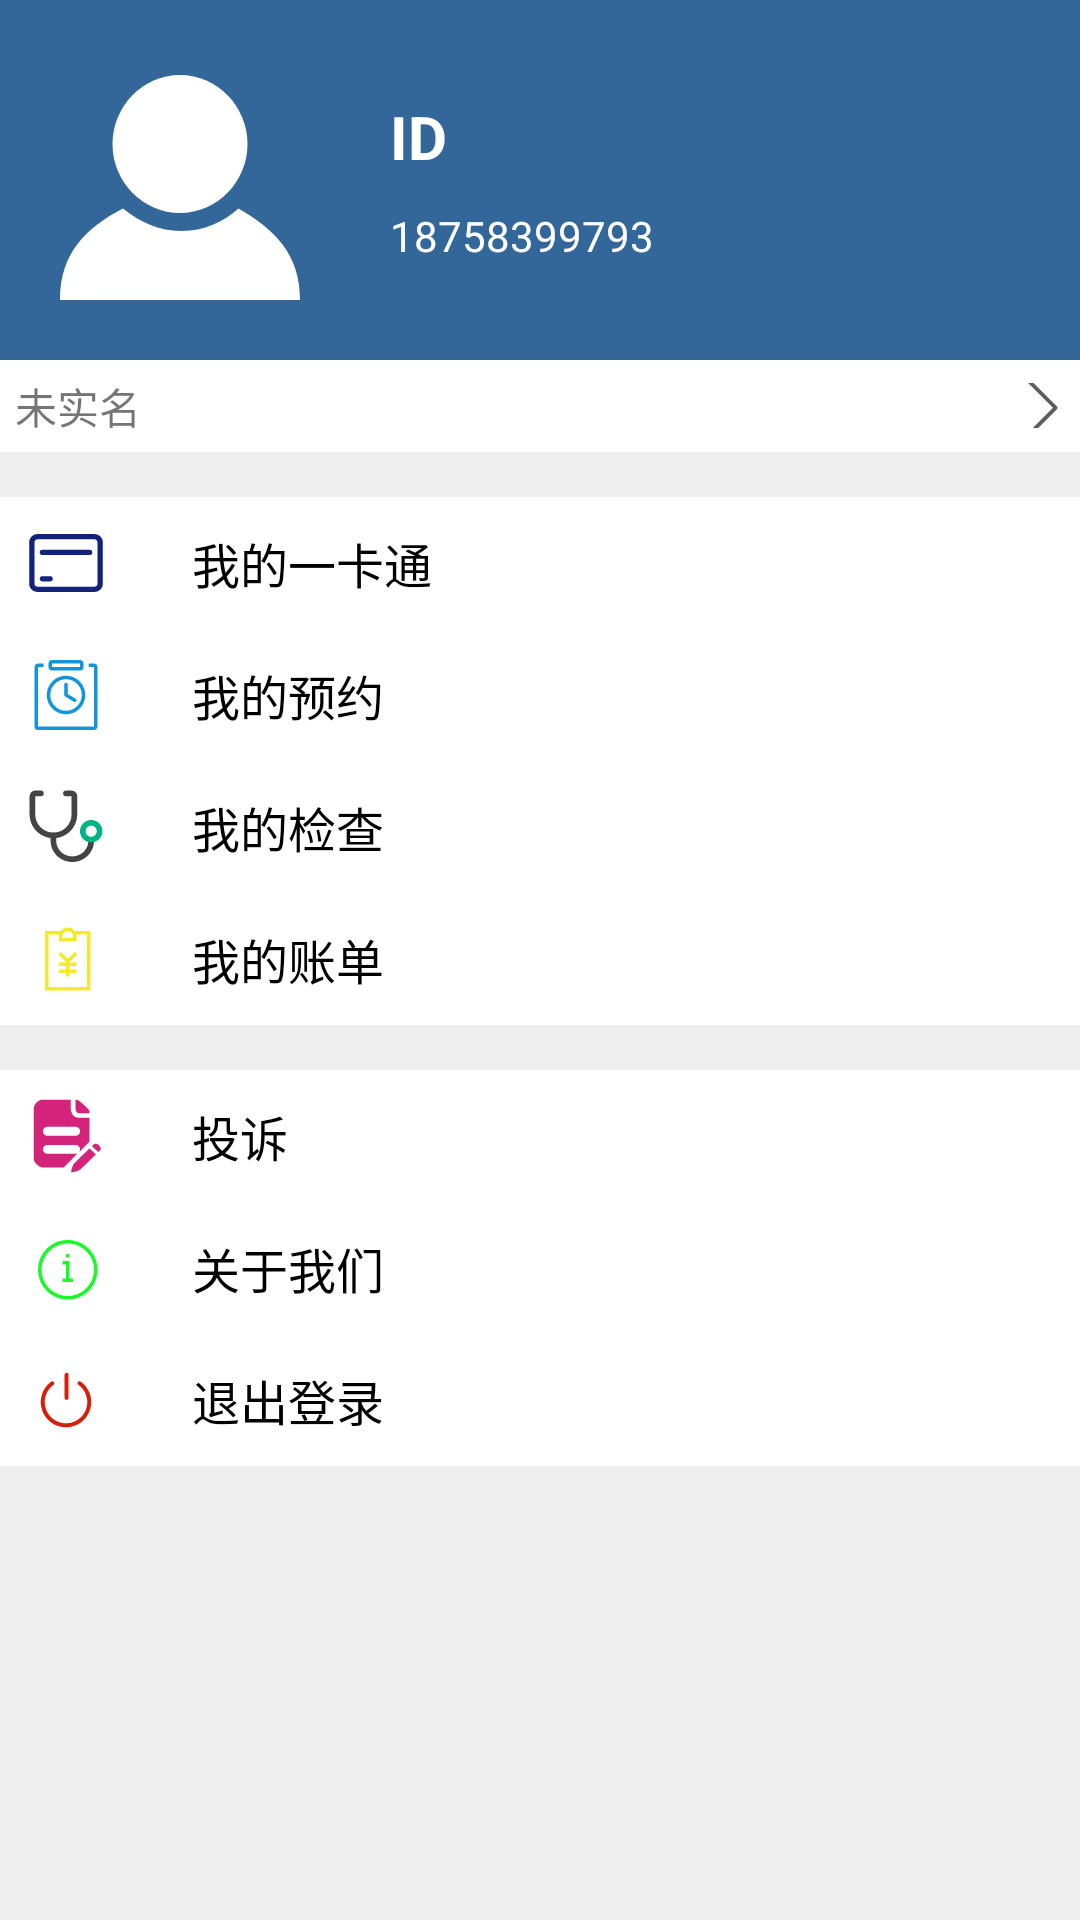

Icon bounding boxes for this 1080px×1920px phone screenshot, format (x1, y1, x2, y2):
about: (38, 1240, 98, 1300)
arrowhead right: (1028, 383, 1058, 428)
bill: (45, 927, 91, 991)
card: (29, 534, 103, 592)
complain: (33, 1099, 101, 1173)
examination: (29, 790, 103, 862)
myself: (60, 75, 300, 300)
off: (40, 1372, 92, 1428)
reserve: (34, 660, 98, 730)
